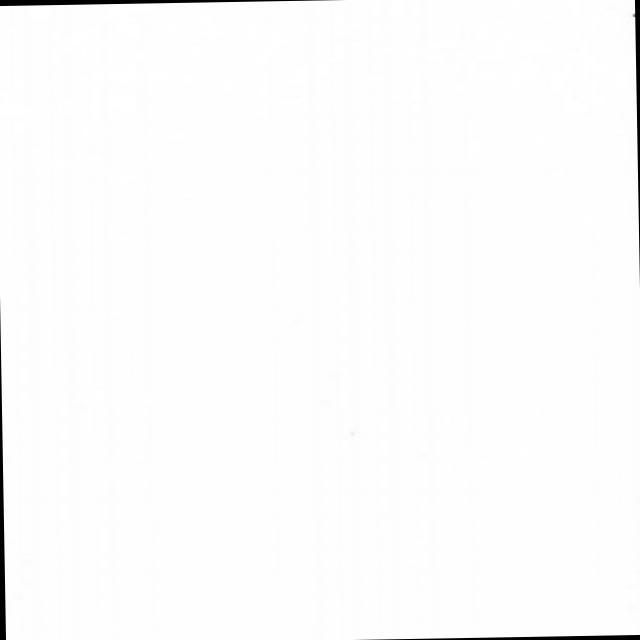container: (1, 1, 640, 640)
